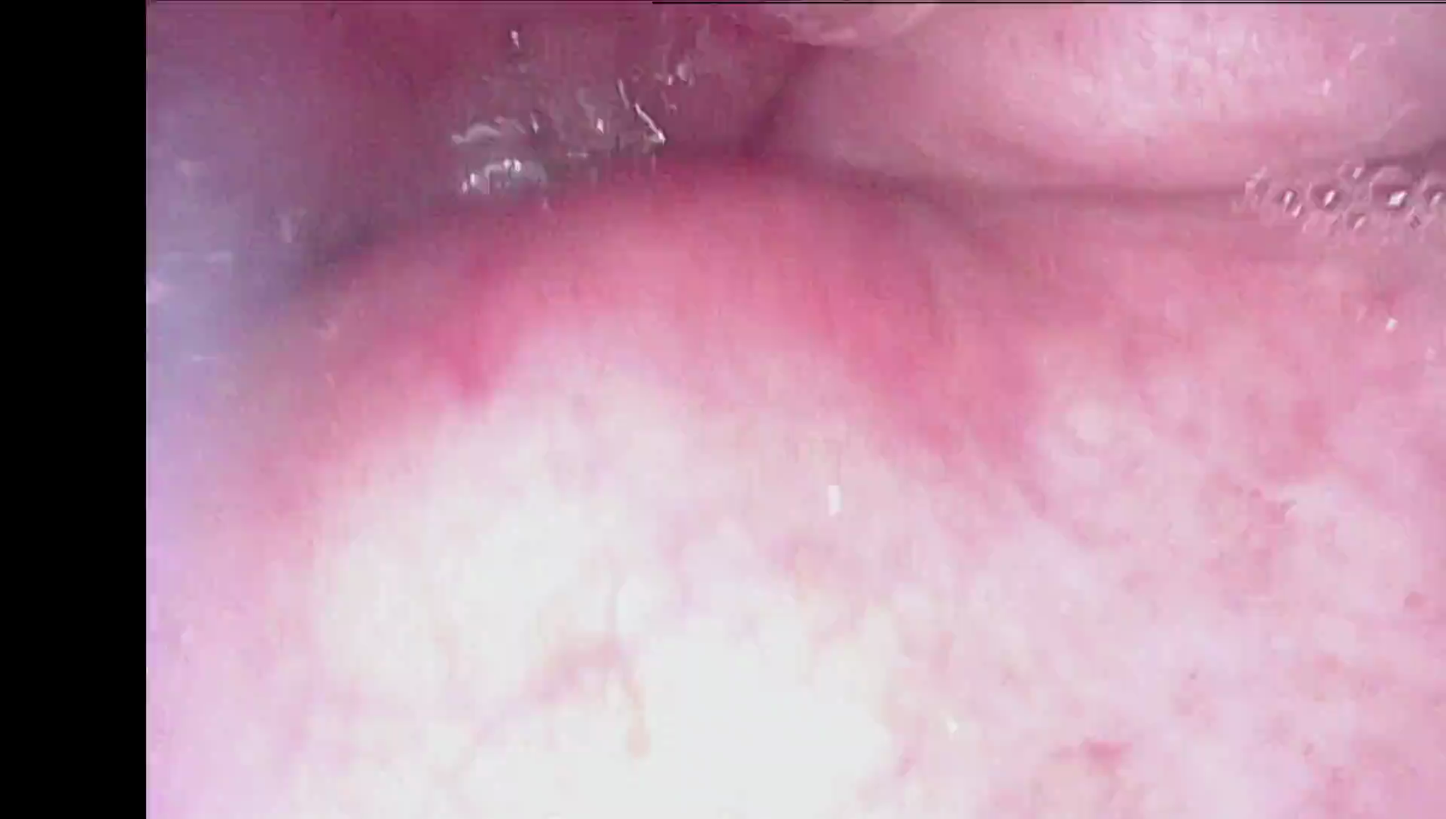close_wall: (282, 325, 1305, 819)
